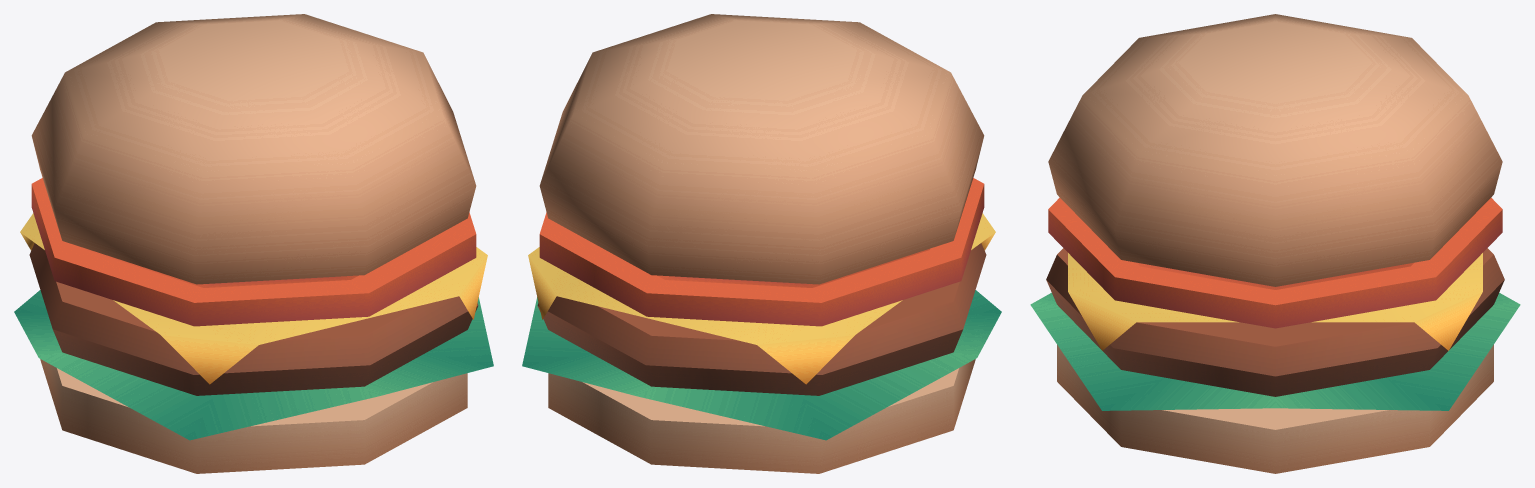
Rendered from burger.glb.
The picture shows the model from 3 angles, left to right: view 1: azimuth 30°, elevation 25°; view 2: azimuth 150°, elevation 25°; view 3: azimuth 270°, elevation 25°; orthographic projection.
Parts seen in each view (by area): view 1: bun-top, patty, bun-bottom, tomato, salad, cheese; view 2: bun-top, patty, bun-bottom, tomato, salad, cheese; view 3: bun-top, patty, tomato, bun-bottom, salad, cheese.
Boxes of the visible parts, x1,y1,x2,y2 form: bun-top: (31, 14, 476, 284); patty: (29, 243, 478, 395); bun-bottom: (40, 359, 467, 473); tomato: (31, 178, 476, 326); salad: (14, 290, 493, 440); cheese: (20, 213, 487, 384); bun-top: (539, 14, 984, 284); patty: (537, 243, 986, 395); bun-bottom: (548, 359, 975, 473); tomato: (539, 178, 984, 326); salad: (522, 290, 1001, 440); cheese: (528, 213, 995, 384); bun-top: (1048, 14, 1502, 286); patty: (1046, 248, 1504, 396); tomato: (1048, 197, 1502, 328); bun-bottom: (1057, 344, 1493, 473); salad: (1030, 292, 1520, 410); cheese: (1068, 253, 1482, 350).
Size of the model in its own units: 0.4041 by 0.29 by 0.4041.
Materials: 1 (1 with a texture image).
